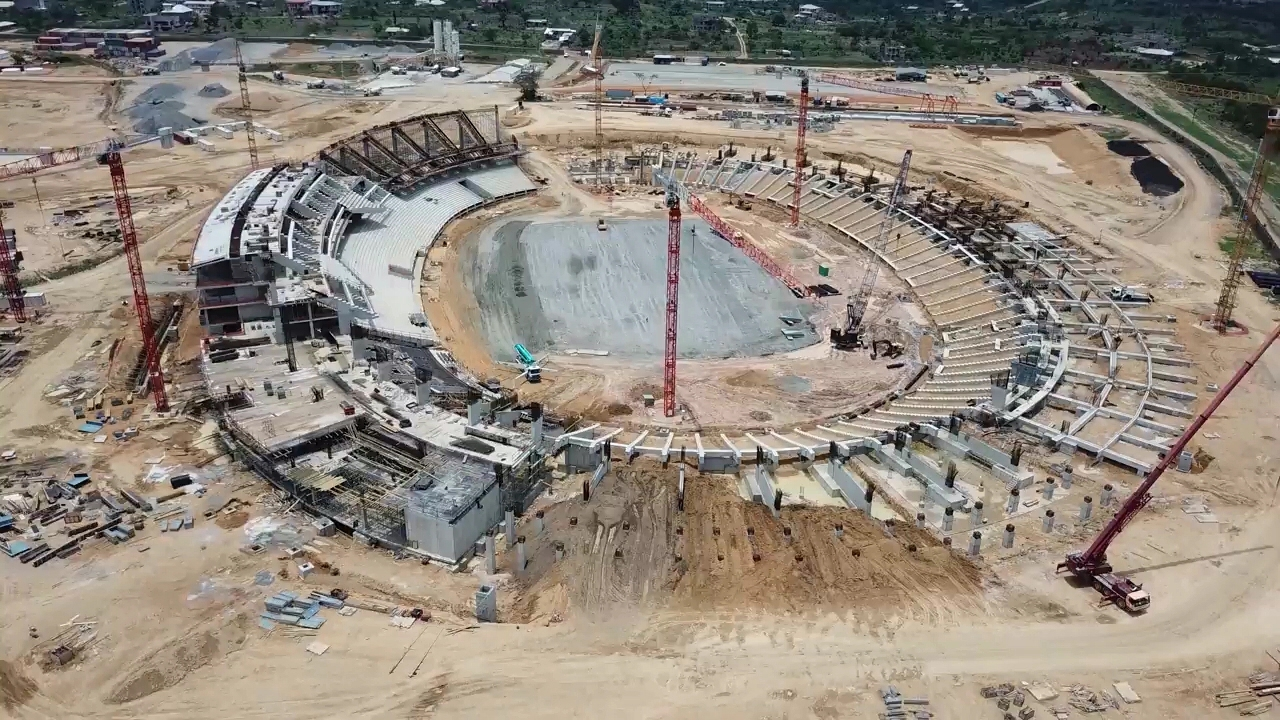ismakinesi: (868, 335, 909, 367)
kamyon: (1064, 547, 1158, 617), (515, 343, 543, 379)
